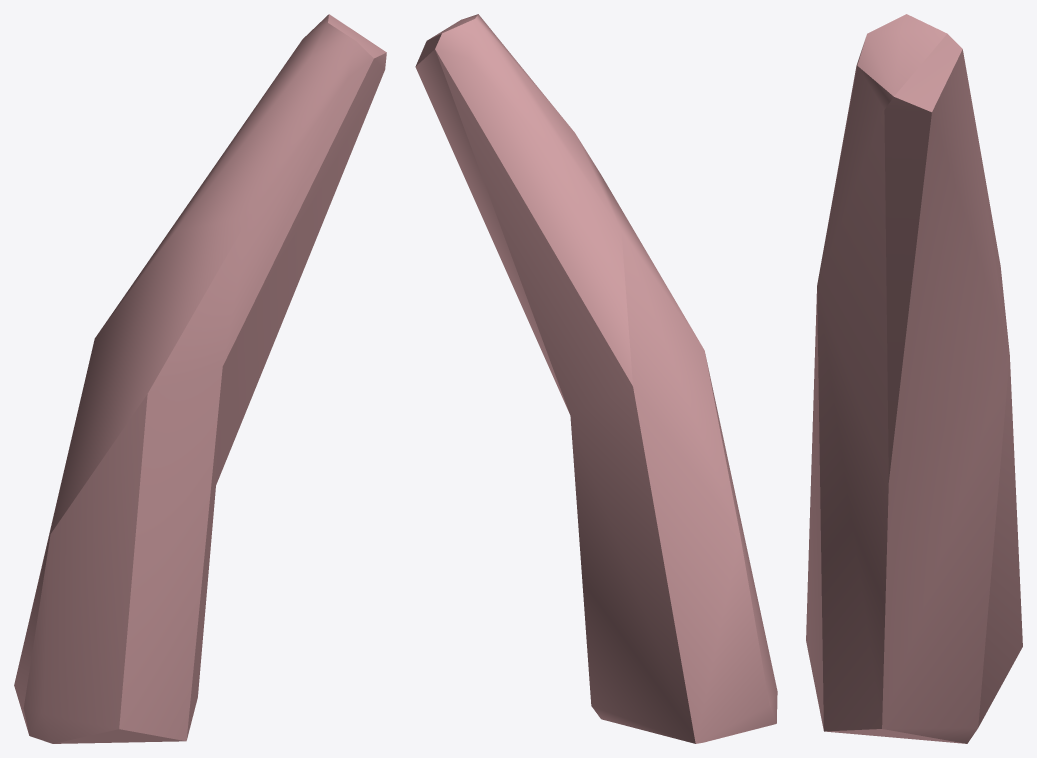
Rendered from fma68228_fj6528.glb.
3 views of the same model, side by side, from view 1: azimuth 30°, elevation 25°; view 2: azimuth 150°, elevation 25°; view 3: azimuth 270°, elevation 25° (orthographic). The views are drawn at different scales.
Parts seen in each view (by area): view 1: FMA68228_FJ6528; view 2: FMA68228_FJ6528; view 3: FMA68228_FJ6528.
Part boxes in pixels (x1=…): FMA68228_FJ6528: x1=14, y1=14, x2=386, y2=743; FMA68228_FJ6528: x1=415, y1=14, x2=777, y2=743; FMA68228_FJ6528: x1=806, y1=14, x2=1022, y2=743.
Bounding box in the file's own units: 0.00732 × 0.0128 × 0.00306.
